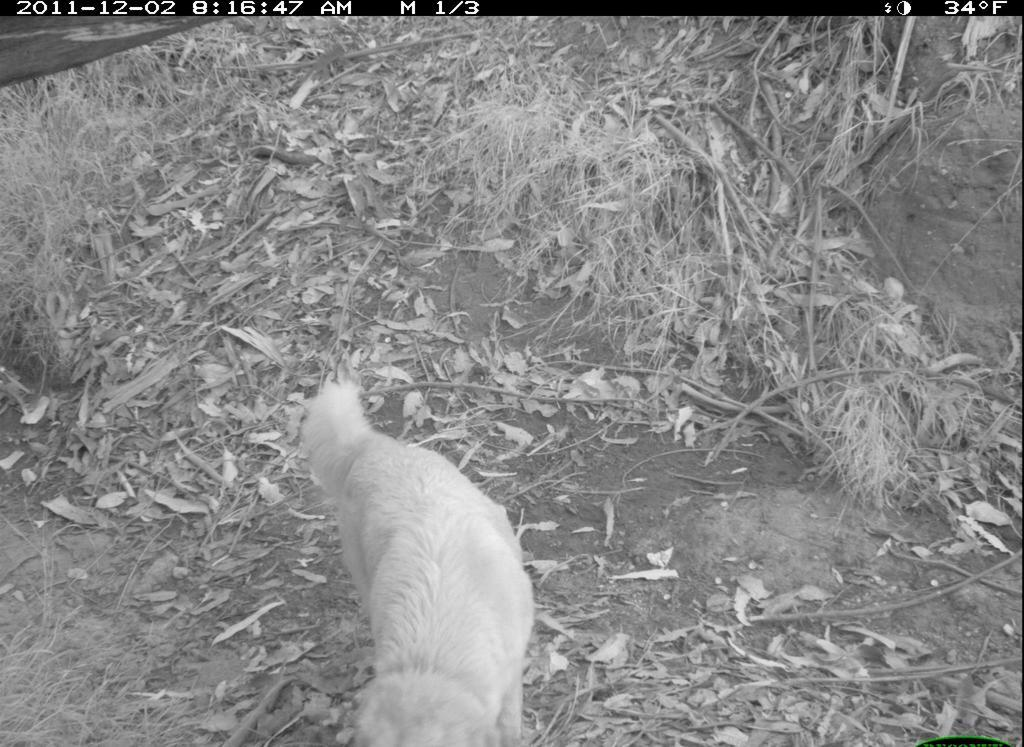dog: (268, 381, 560, 744)
